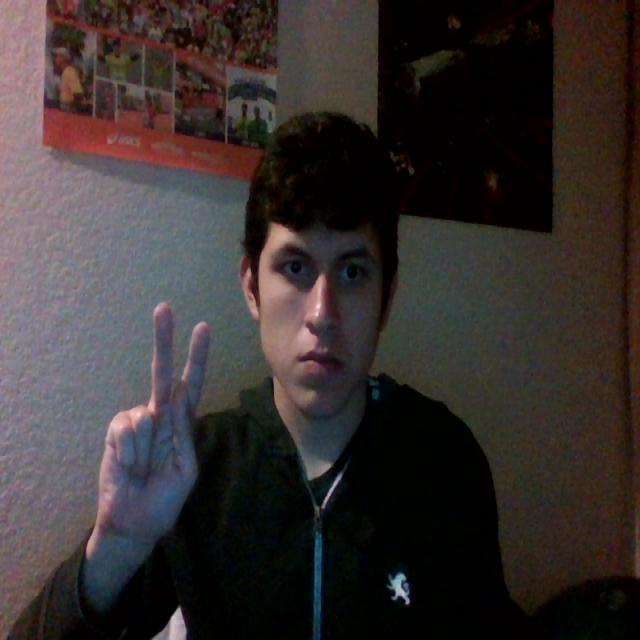K: (65, 272, 250, 586)
